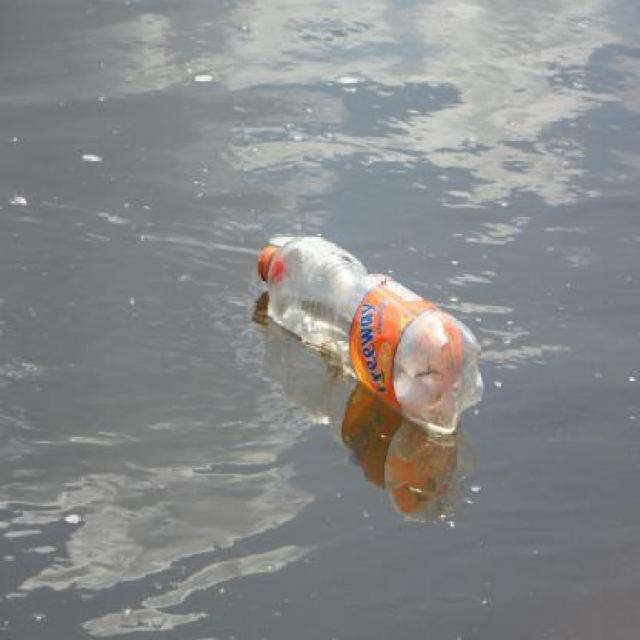bottle: (245, 235, 501, 445)
